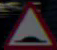Speed Breaker ahead: (10, 6, 46, 42)
